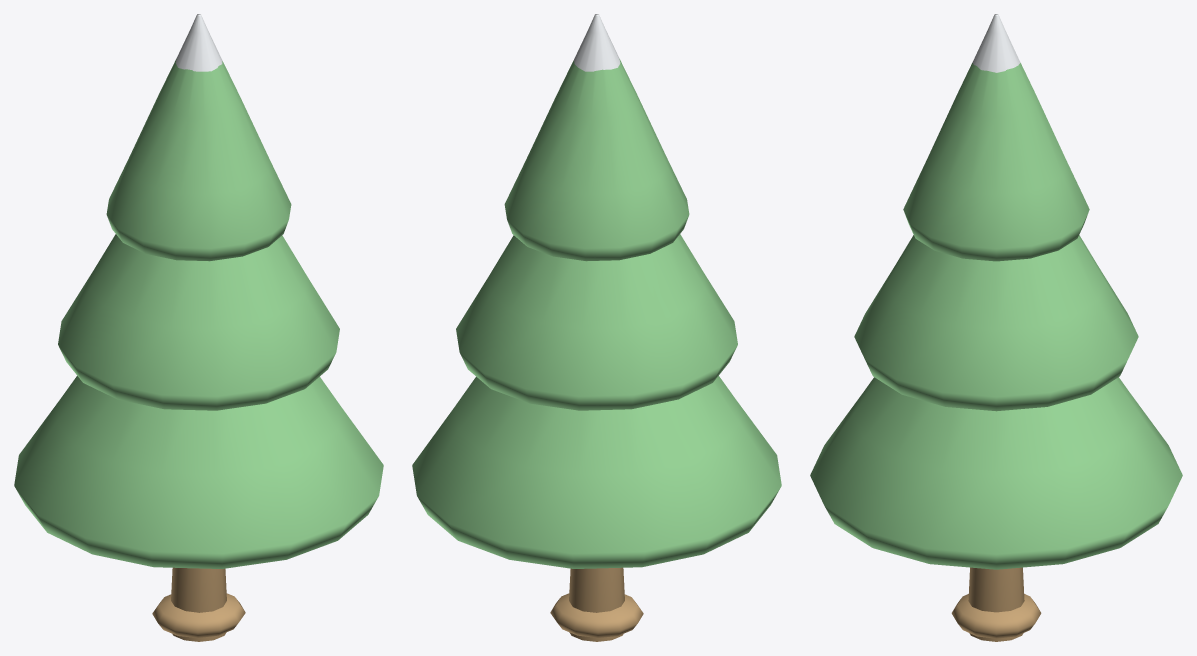
The model's file is tree_pine_winter.glb.
3 views of the same model, side by side, from view 1: azimuth 30°, elevation 25°; view 2: azimuth 150°, elevation 25°; view 3: azimuth 270°, elevation 25° (orthographic).
Bounding box in the file's own units: 2.28 × 4.15 × 2.28.
